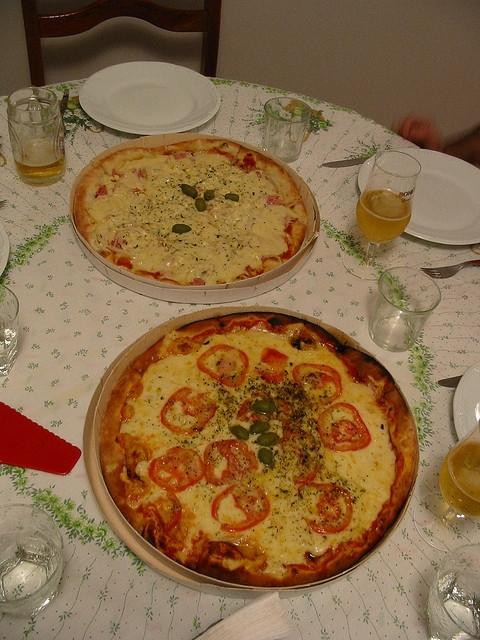tomato: (287, 342, 385, 422), (211, 484, 270, 532), (238, 392, 290, 446), (316, 402, 372, 452), (298, 482, 352, 532), (160, 387, 216, 434), (148, 446, 205, 492), (204, 439, 258, 486), (292, 362, 344, 406), (197, 344, 249, 388), (261, 348, 289, 366), (294, 471, 318, 484)
